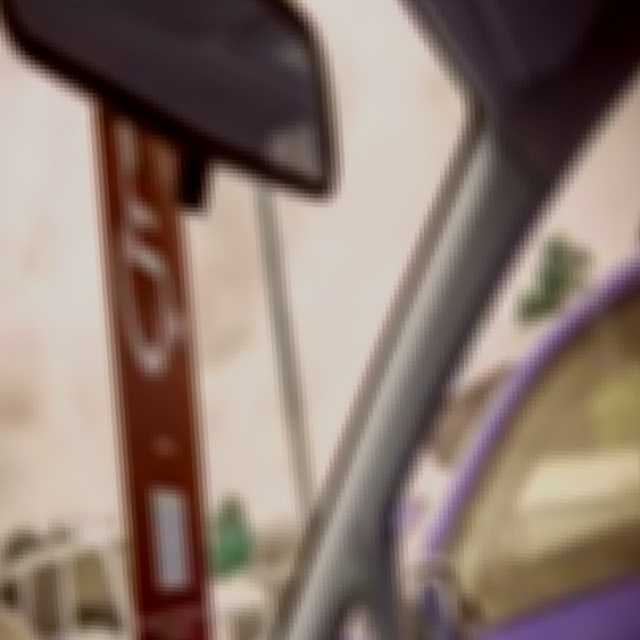ISA: (106, 110, 190, 386)
